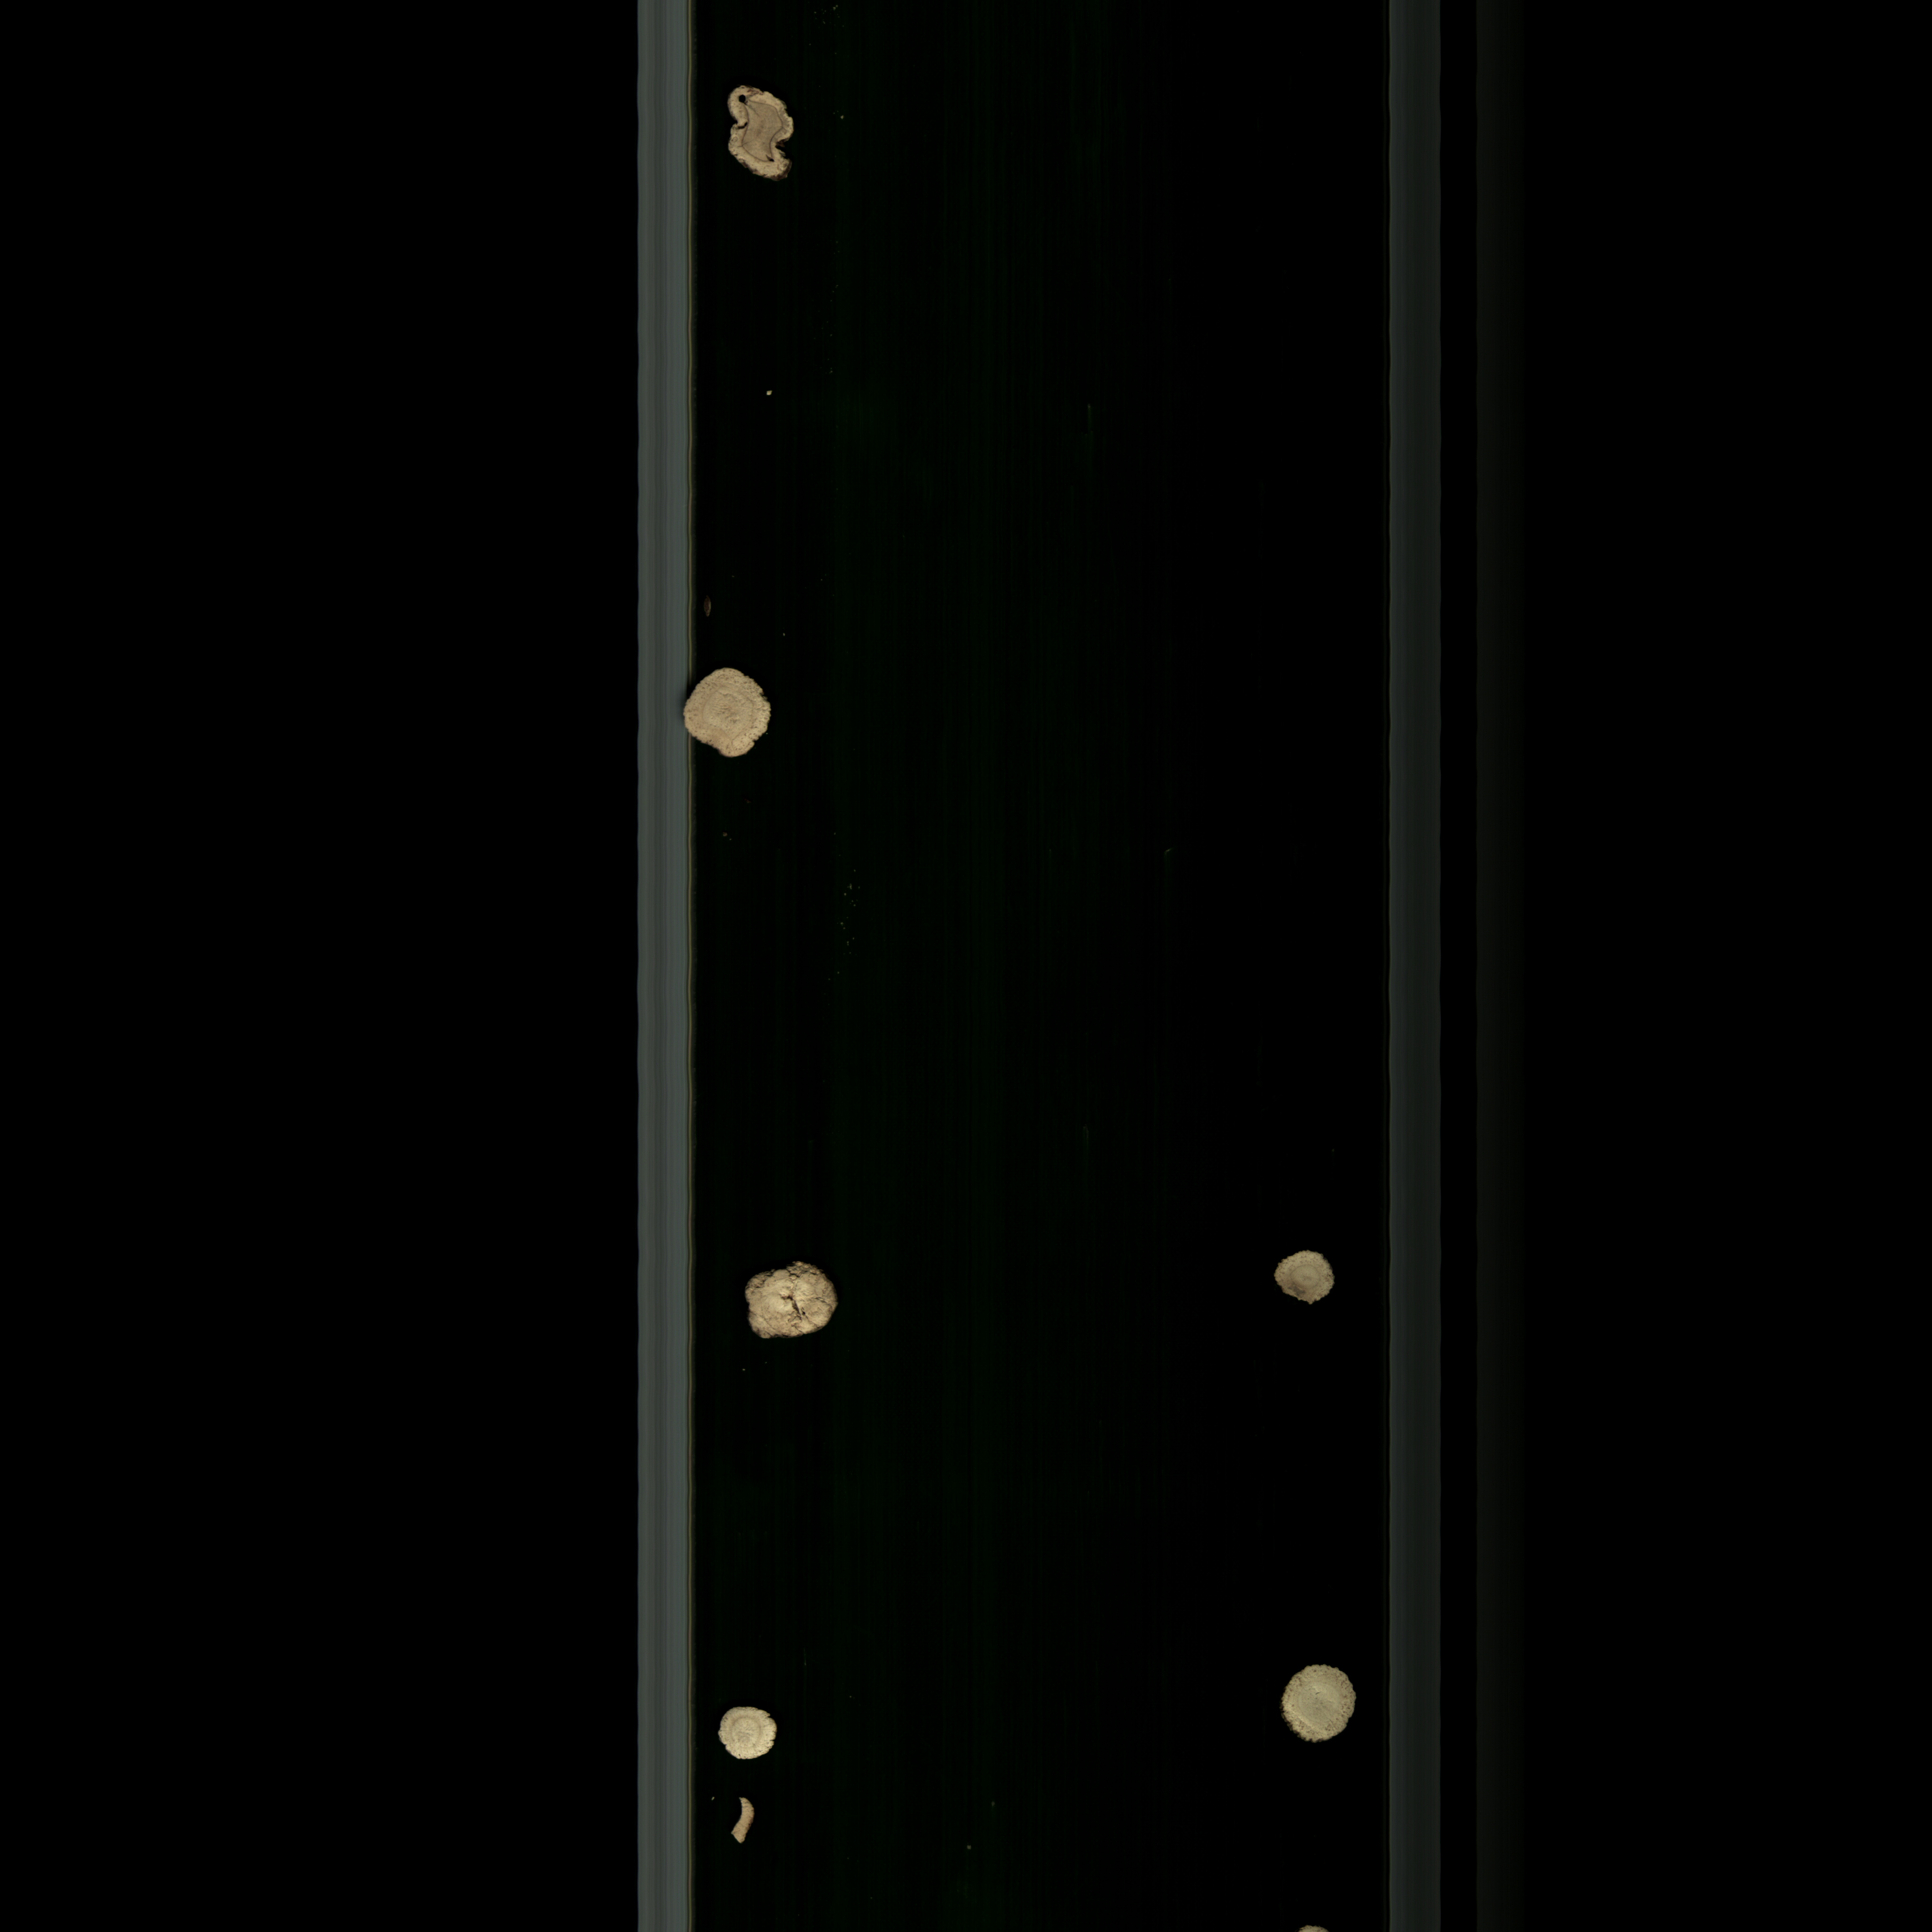bark: (731, 1254, 853, 1357)
dreg: (725, 1790, 757, 1854)
moldy: (718, 80, 807, 195), (1260, 1242, 1345, 1320)
